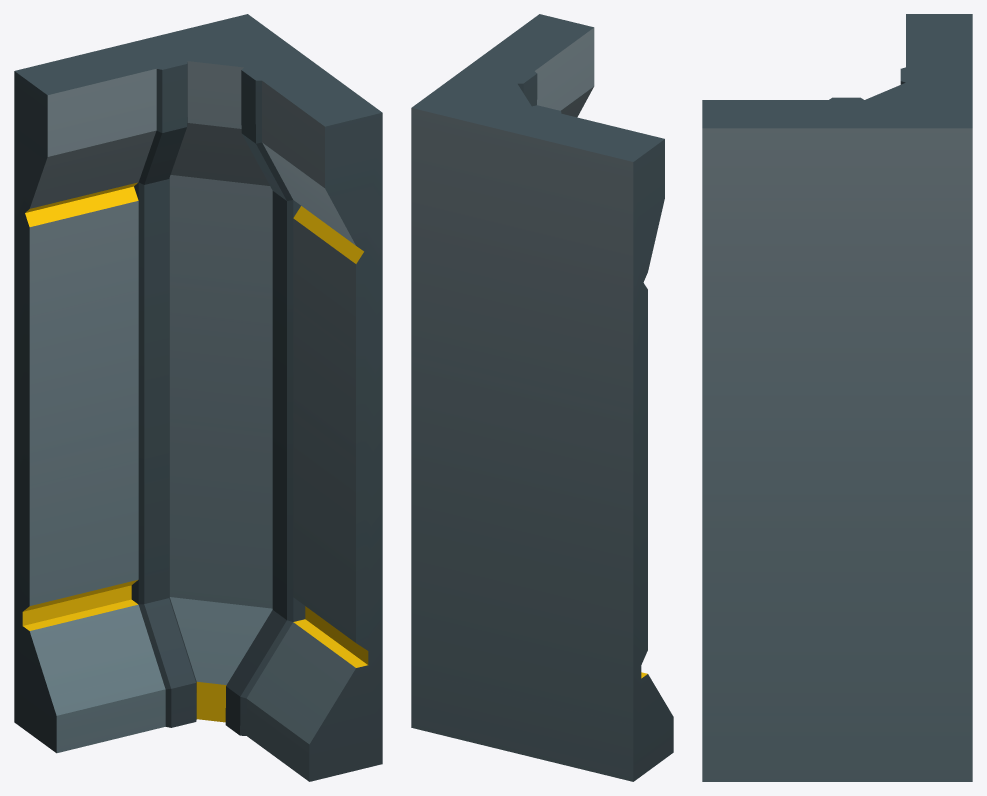
Rendered from wall_outer_corner_breached.glb.
3 renders of one model, left to right at view 1: azimuth 30°, elevation 25°; view 2: azimuth 150°, elevation 25°; view 3: azimuth 270°, elevation 25°, orthographic. The views are drawn at different scales.
Visible parts, largest first — view 1: Wall_type_C_004; view 2: Wall_type_C_004; view 3: Wall_type_C_004.
Part boxes in pixels (x1,y1,x2,y2): Wall_type_C_004: (14, 14, 382, 781); Wall_type_C_004: (411, 14, 673, 781); Wall_type_C_004: (702, 14, 972, 781).
Size of the model in its own units: 1.5 by 4 by 1.5.
1 material, 1 textured.
